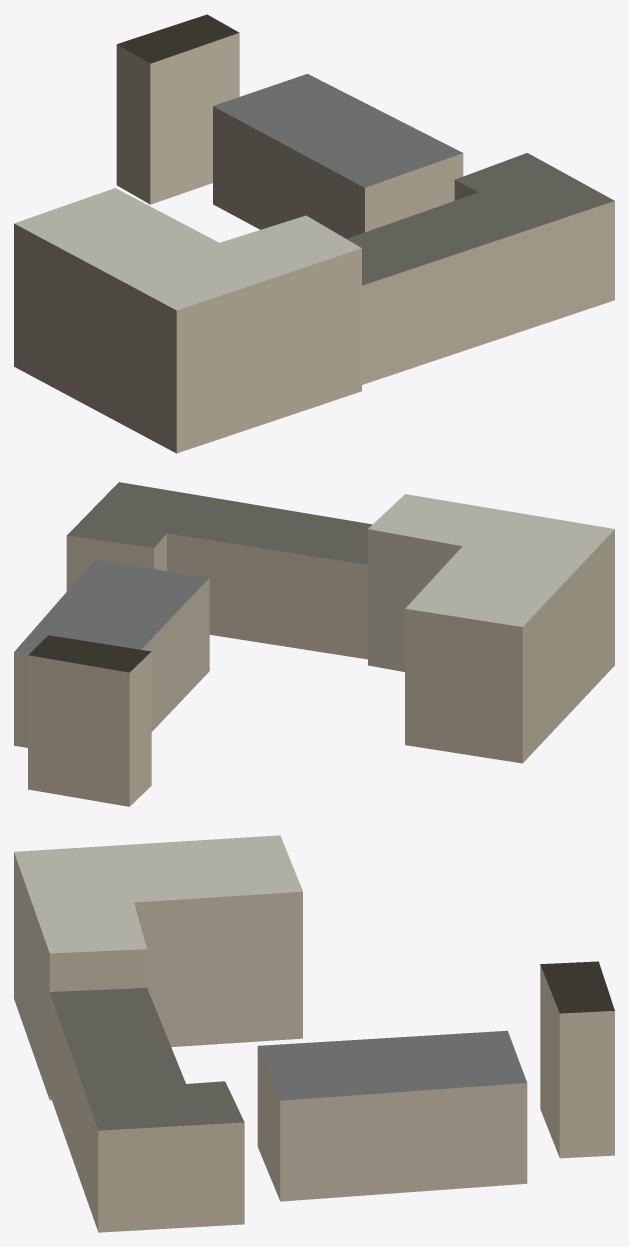
The picture shows the model from 3 angles, top to bottom: view 1: azimuth 30°, elevation 25°; view 2: azimuth 150°, elevation 25°; view 3: azimuth 270°, elevation 25°; orthographic projection. The views are drawn at different scales.
Parts seen in each view (by area): view 1: tuile; view 2: tuile; view 3: tuile.
Boxes of the visible parts, box(x1,y1,x2,y2) form: tuile: box(14, 14, 614, 453); tuile: box(14, 482, 614, 806); tuile: box(14, 835, 614, 1232).
Bounding box in the file's own units: 18.7 × 5.09 × 18.5.
